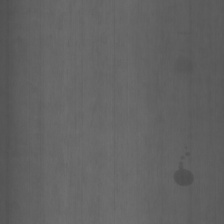oil_spot: (171, 146, 197, 196)
